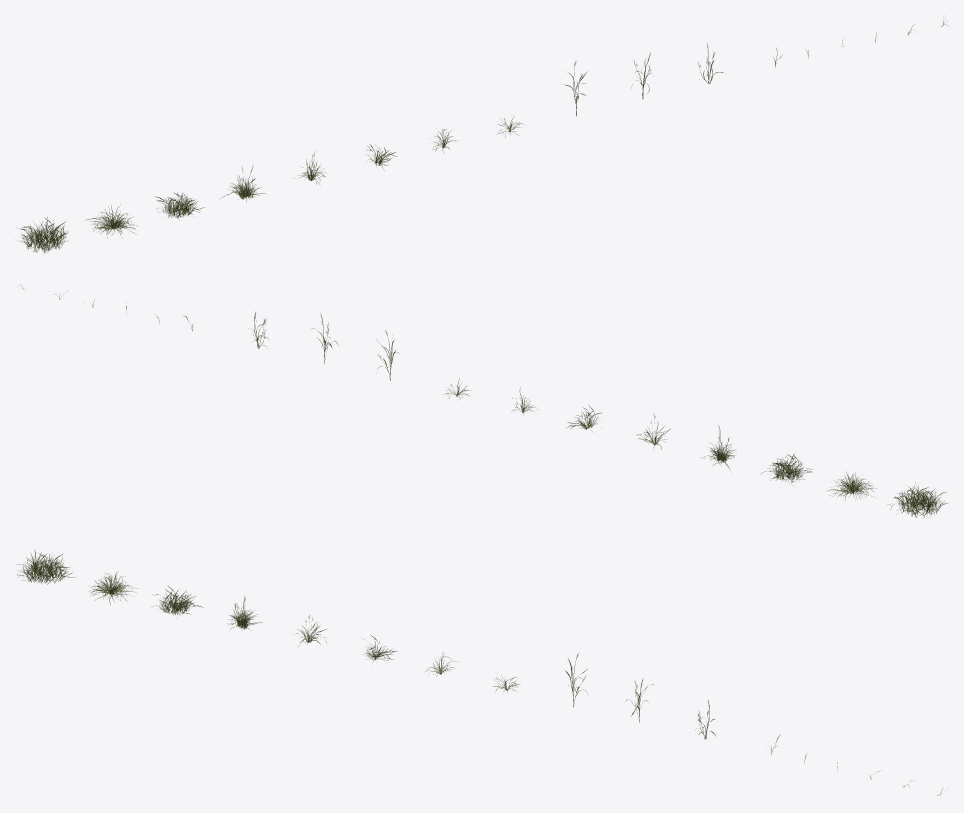
File: polyhaven-grass-medium-01.glb
The picture shows the model from 3 angles, top to bottom: view 1: azimuth 30°, elevation 25°; view 2: azimuth 150°, elevation 25°; view 3: azimuth 330°, elevation 25°; orthographic projection.
Visible parts, largest first — view 1: grass_medium_01_large_a_LOD0_0, grass_medium_01_large_c_LOD0_0, grass_medium_01_large_b_LOD0_0; view 2: grass_medium_01_large_a_LOD0_0, grass_medium_01_large_c_LOD0_0, grass_medium_01_large_b_LOD0_0; view 3: grass_medium_01_large_a_LOD0_0, grass_medium_01_large_c_LOD0_0, grass_medium_01_large_b_LOD0_0.
Part boxes in pixels (left/top/right/bottom): grass_medium_01_large_a_LOD0_0: left=16, top=217, right=68, bottom=253; grass_medium_01_large_c_LOD0_0: left=155, top=192, right=204, bottom=220; grass_medium_01_large_b_LOD0_0: left=85, top=204, right=137, bottom=238; grass_medium_01_large_a_LOD0_0: left=888, top=482, right=947, bottom=517; grass_medium_01_large_c_LOD0_0: left=761, top=454, right=812, bottom=486; grass_medium_01_large_b_LOD0_0: left=828, top=472, right=876, bottom=499; grass_medium_01_large_a_LOD0_0: left=17, top=550, right=75, bottom=584; grass_medium_01_large_c_LOD0_0: left=152, top=586, right=203, bottom=615; grass_medium_01_large_b_LOD0_0: left=89, top=571, right=137, bottom=604.
Size of the model in its own units: 5.6 by 0.3426 by 0.3266.
1 material, 1 textured.
